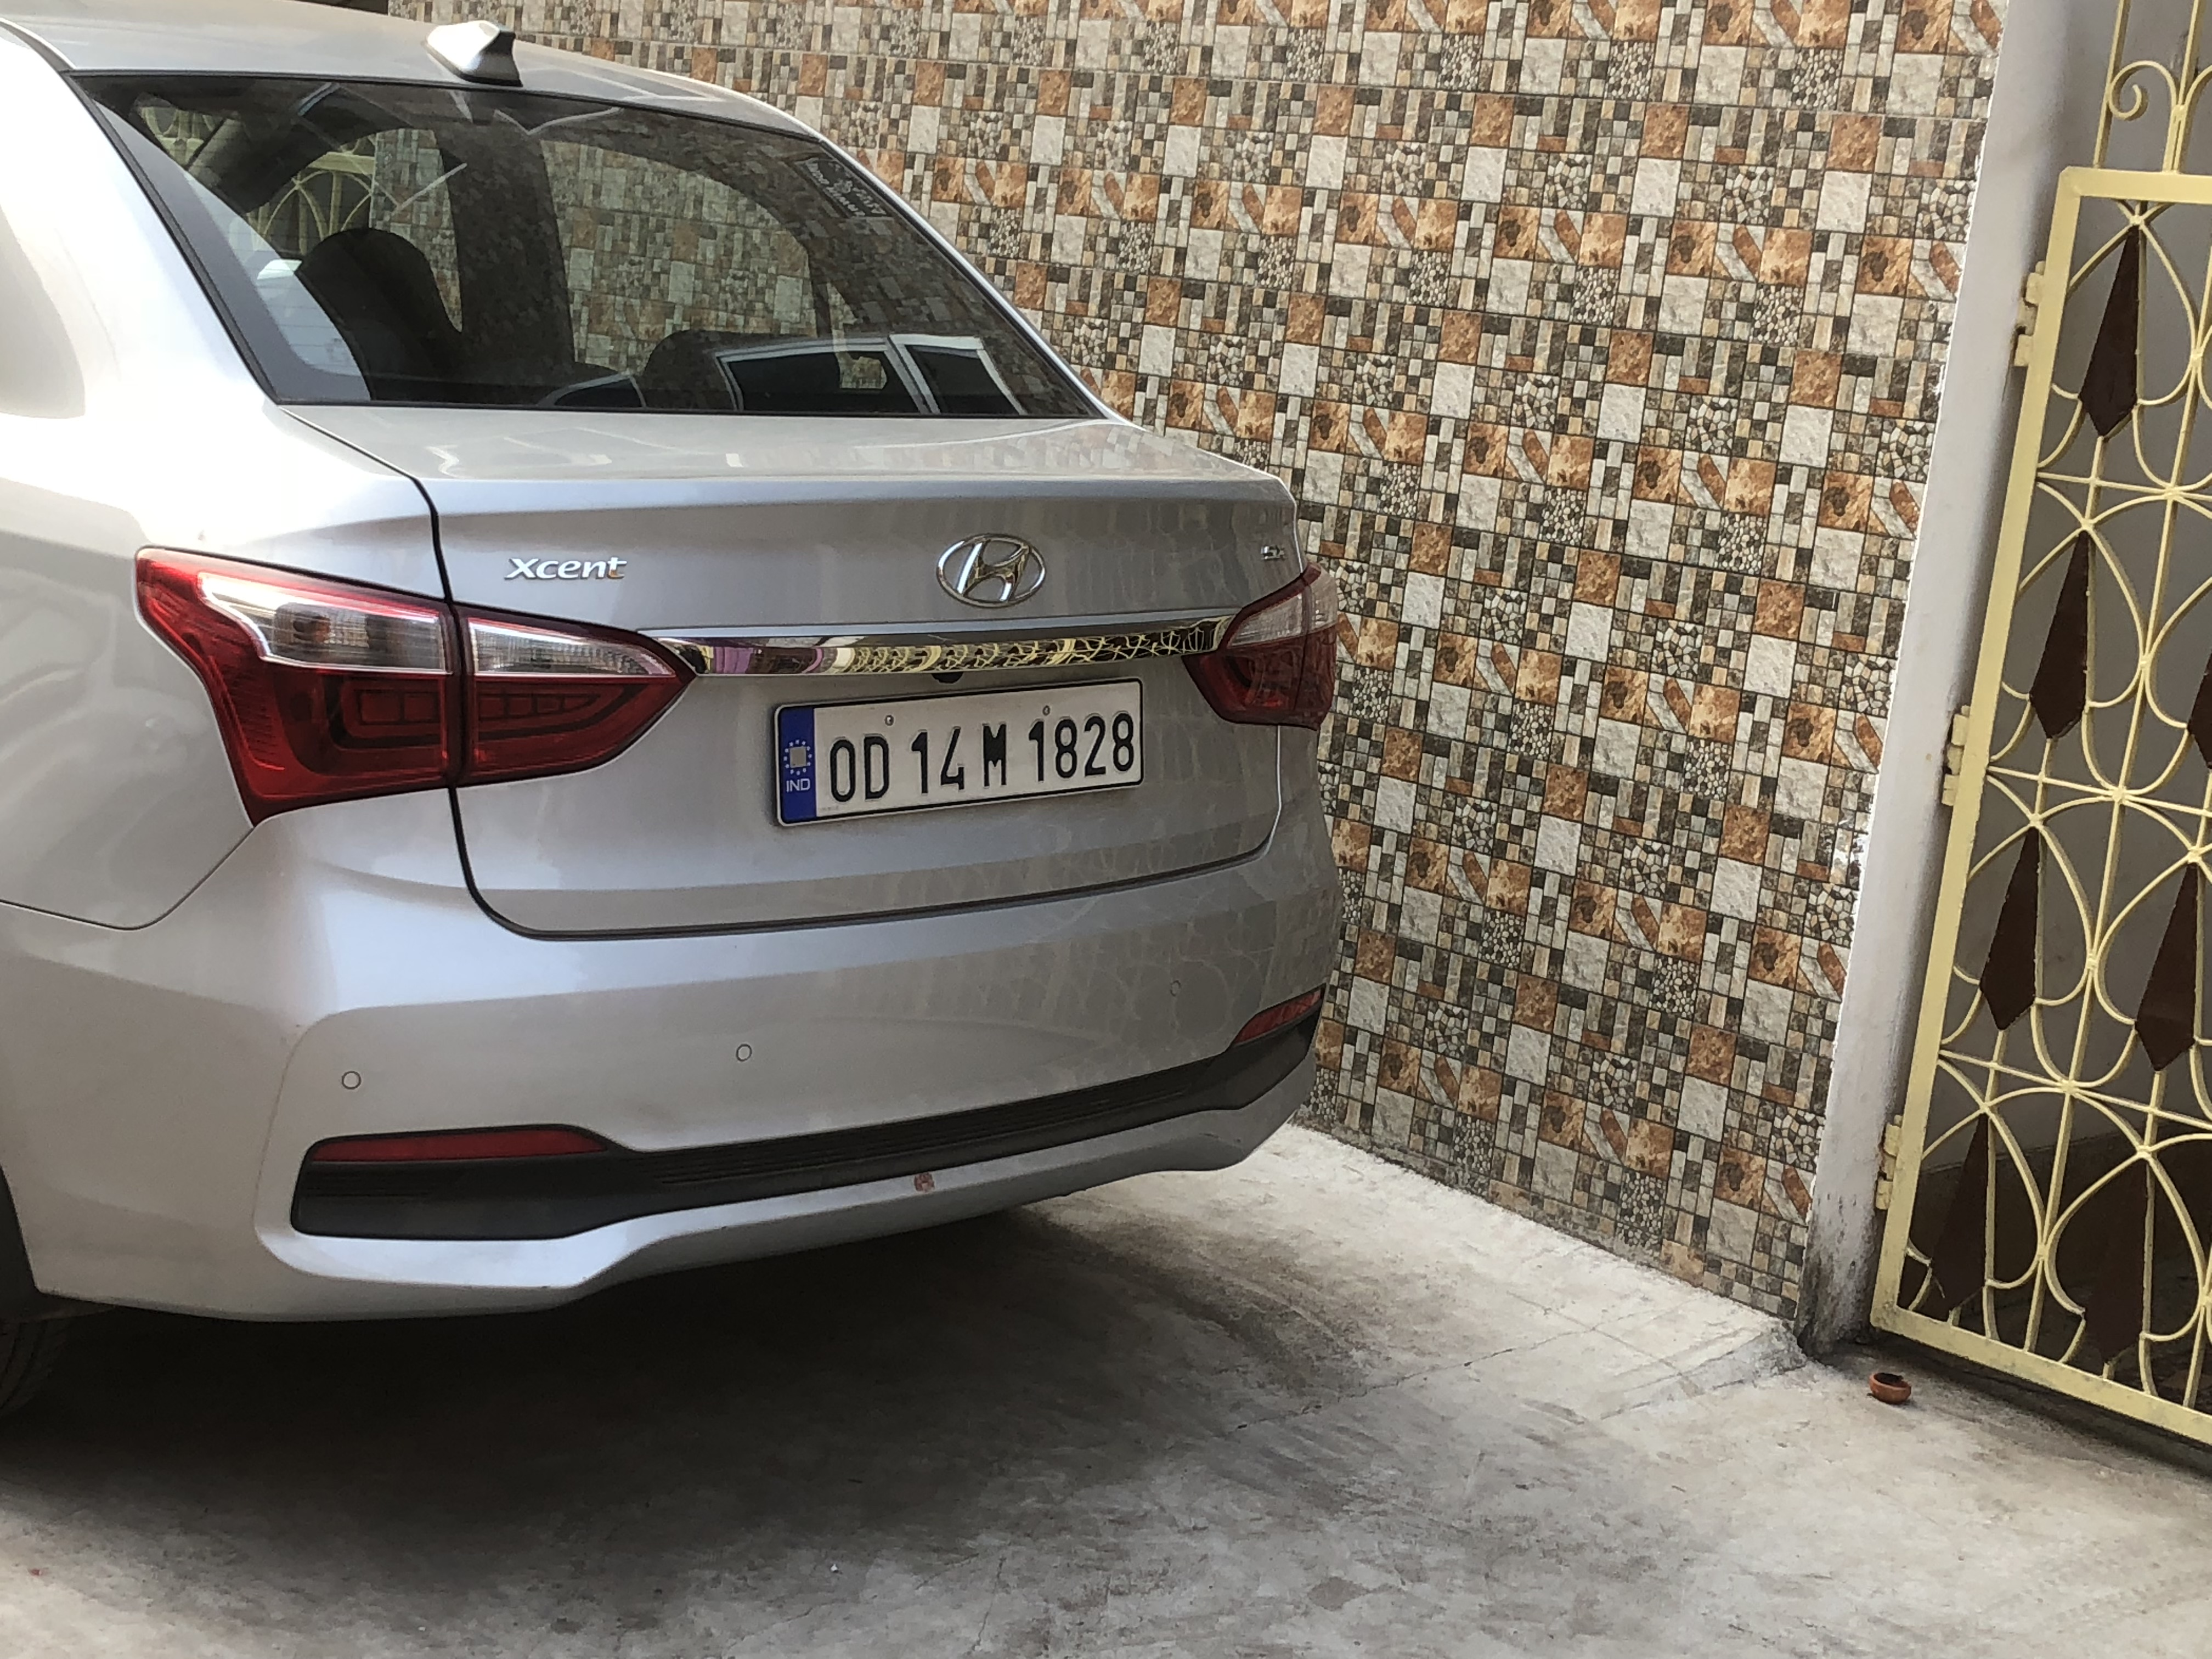licenseplate: (751, 673, 1155, 832)
